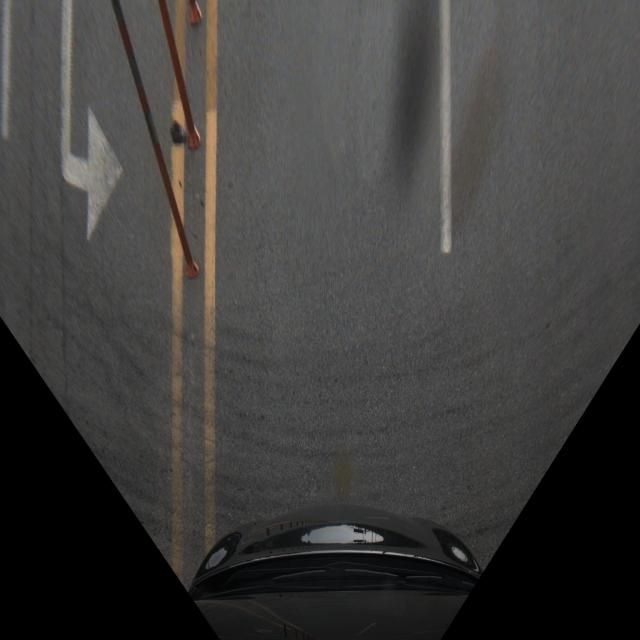left: (458, 371, 640, 640)
